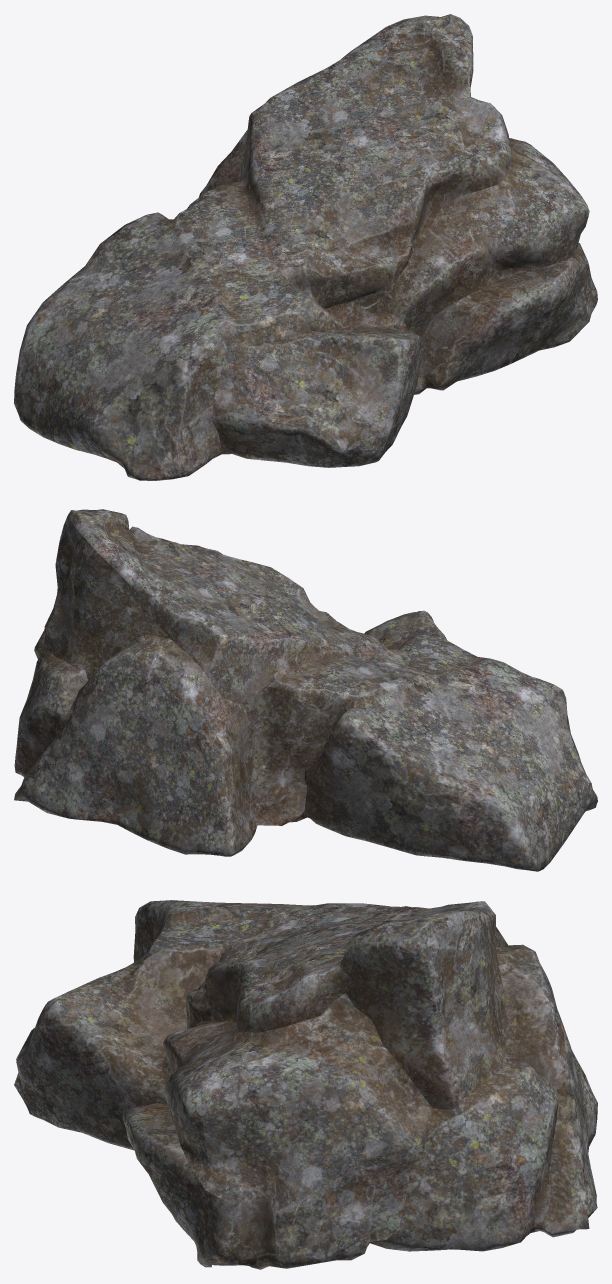
The model's file is SM_Rock_03.fbx.
3 renders of one model, top to bottom at view 1: azimuth 30°, elevation 25°; view 2: azimuth 150°, elevation 25°; view 3: azimuth 270°, elevation 25°, orthographic. The views are drawn at different scales.
Visible parts, largest first — view 1: SM_Rock_03_LOD0; view 2: SM_Rock_03_LOD0; view 3: SM_Rock_03_LOD0.
Part boxes in pixels (x1,y1,x2,y2): SM_Rock_03_LOD0: [14, 14, 597, 480]; SM_Rock_03_LOD0: [14, 509, 597, 871]; SM_Rock_03_LOD0: [14, 900, 597, 1269].
Bounding box in the file's own units: 3371 × 2632 × 1746.
